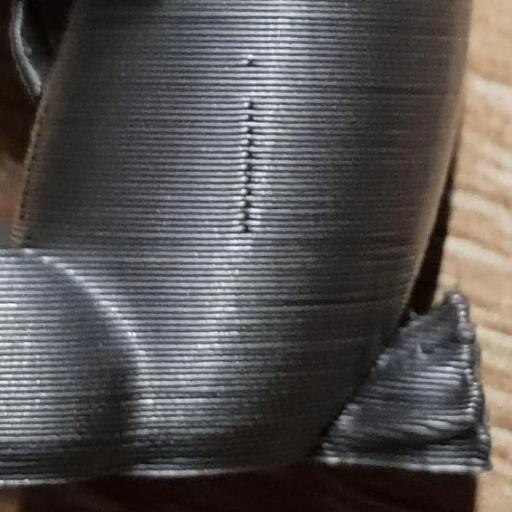cracks: (235, 96, 263, 241), (242, 51, 258, 71)
